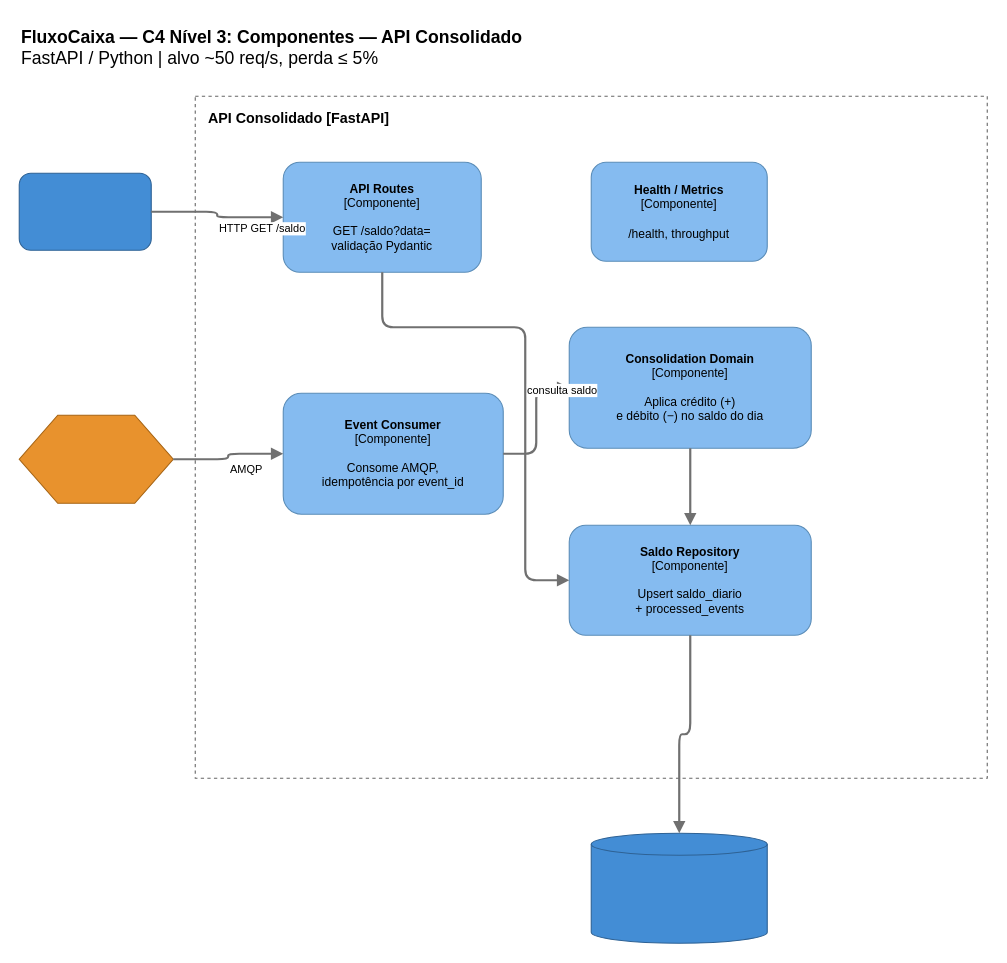
Some shapes in this 1007 by 963 pixel diagram are drawn without their labels. The shapes that lost their labels are listed below. From the top down, each one's centre as x and y in pixels, then its label:
the point at 84,211: Frontend [Streamlit]
the point at 95,458: RabbitMQ [Broker]
the point at 678,887: DB Consolidado [PostgreSQL]
